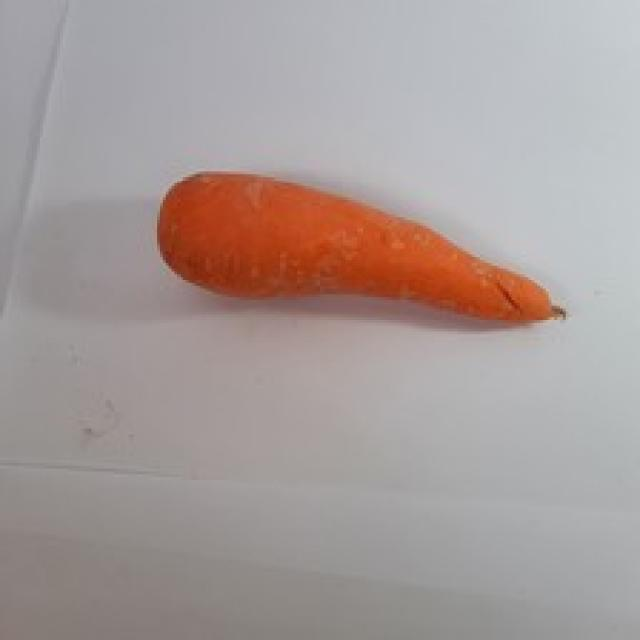Fresh_Carrot: (156, 172, 566, 325)
